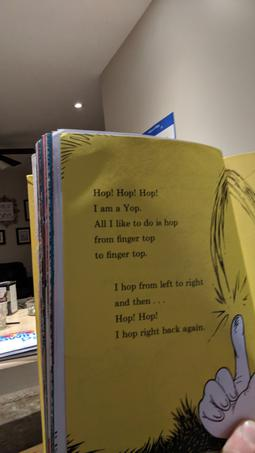text block: (81, 179, 190, 266), (107, 273, 224, 343)
